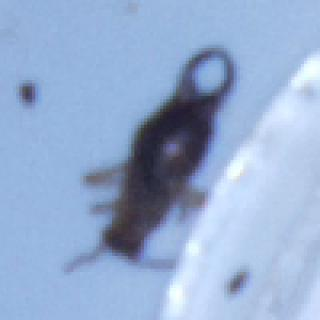earwig: (59, 20, 237, 282)
